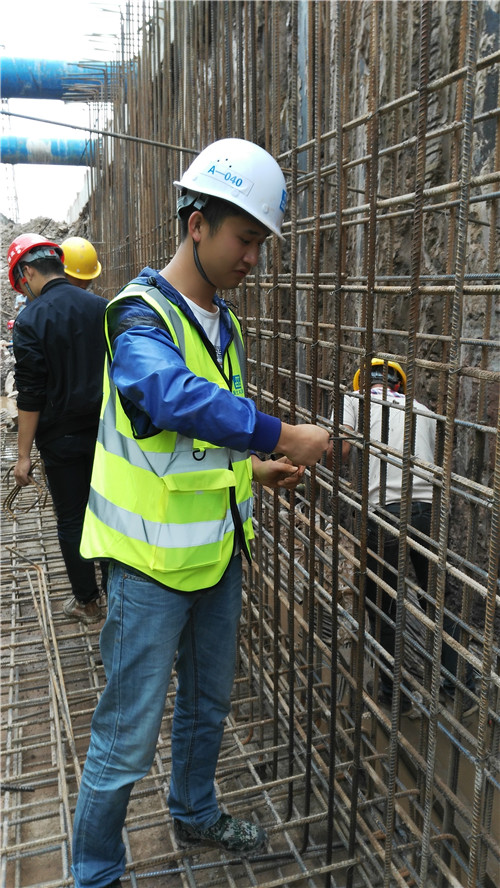boots: (173, 812, 267, 852), (62, 594, 103, 625), (438, 683, 476, 713), (366, 679, 392, 705)
hard-hat: (172, 137, 288, 242), (6, 232, 64, 293), (352, 356, 407, 394)
person: (69, 137, 332, 887), (327, 355, 476, 720), (6, 233, 111, 624)
vest: (78, 265, 282, 592)
